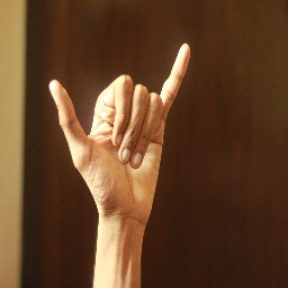J: (49, 29, 190, 196)
